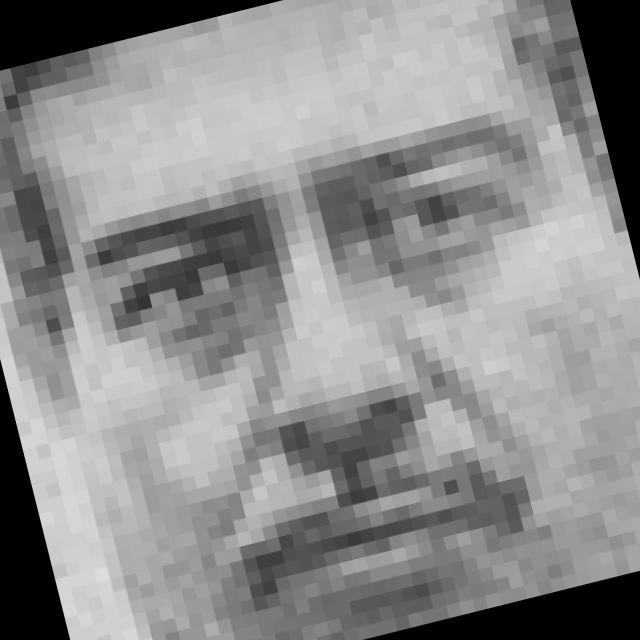neutral: (74, 101, 637, 640)
